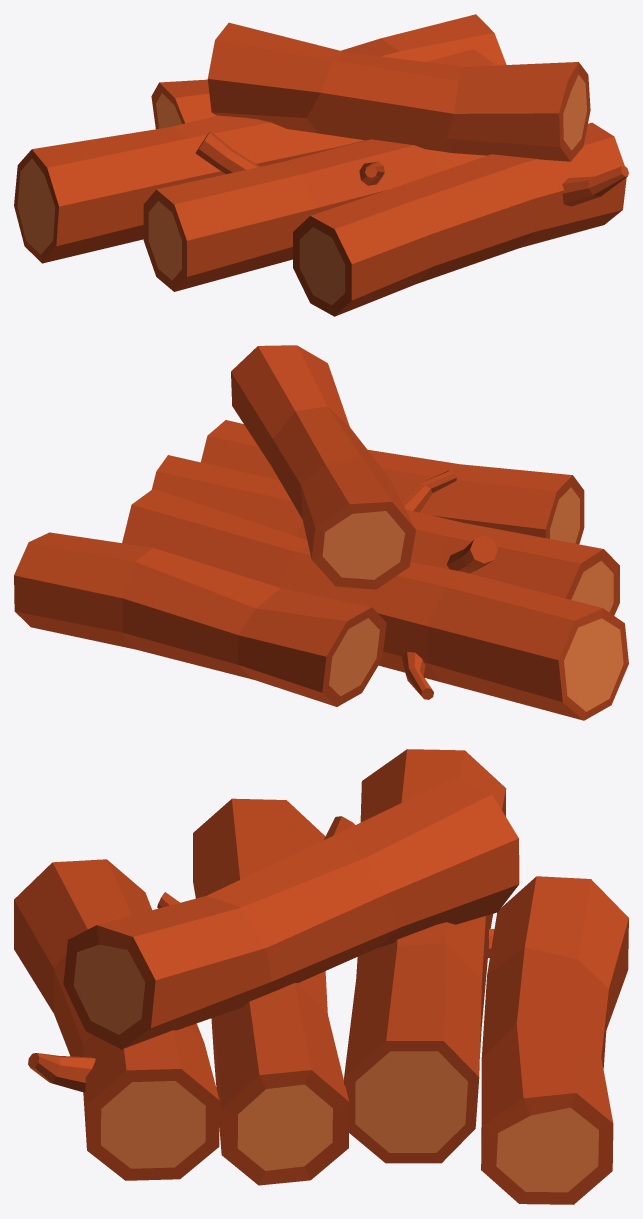
File: Item22.obj
3 renders of one model, top to bottom at view 1: azimuth 30°, elevation 25°; view 2: azimuth 150°, elevation 25°; view 3: azimuth 270°, elevation 25°, orthographic. The views are drawn at different scales.
Visible parts, largest first — view 1: Item22_Cylinder.030; view 2: Item22_Cylinder.030; view 3: Item22_Cylinder.030.
Part boxes in pixels (bbox=[...]): Item22_Cylinder.030: bbox=[14, 14, 628, 316]; Item22_Cylinder.030: bbox=[14, 345, 628, 720]; Item22_Cylinder.030: bbox=[14, 749, 628, 1204].
Size of what is drawn, in the model's own units: 0.7131 by 0.2285 by 0.5547.
